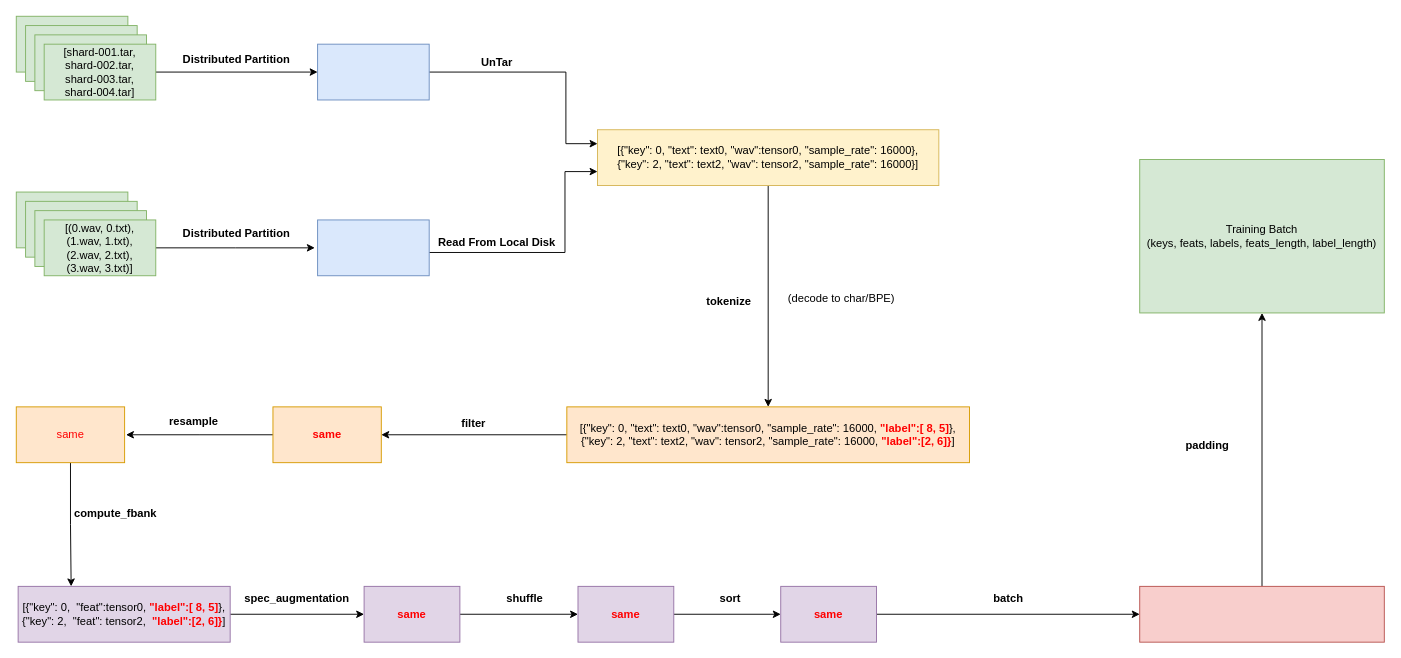
The diagram is 1401 pixels wide and 658 high, and some of its shapes have lost their labels. Each missing label, with the centre of its shape:
[(0.wav, 0.txt), (2.wav, 2.txt)]: point (373, 247)
[shard-001.tar, shard-002.tar]: point (373, 71)
list: point (1261, 613)
